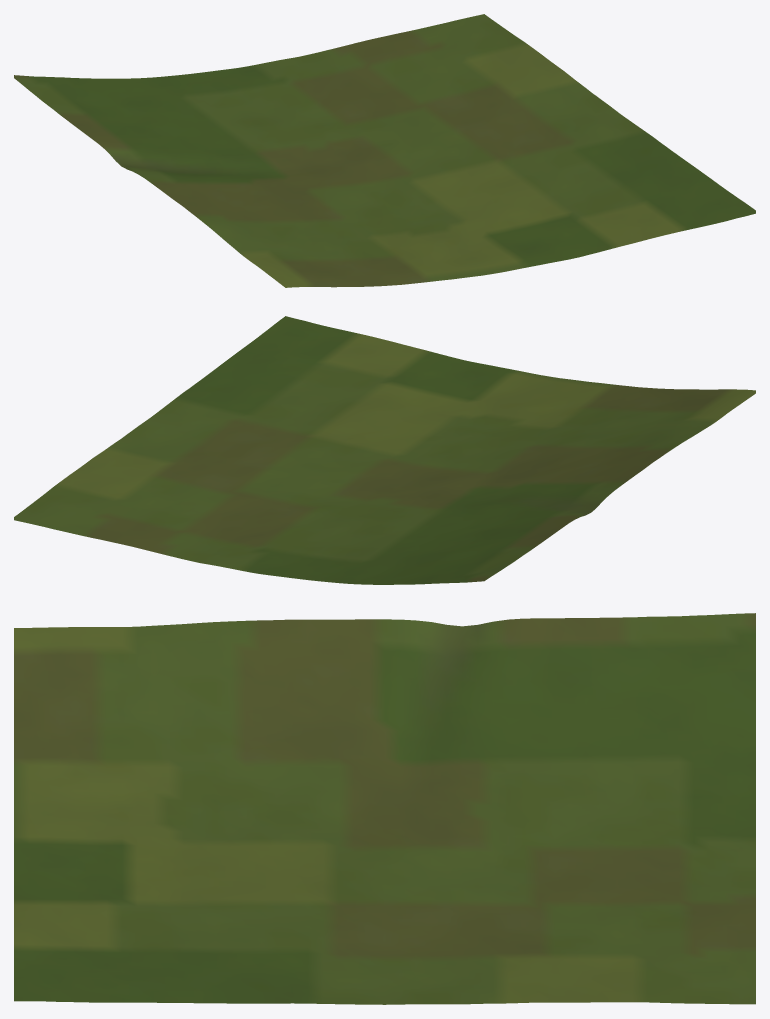
Rendered from land_m_07_07.glb.
3 renders of one model, top to bottom at view 1: azimuth 30°, elevation 25°; view 2: azimuth 150°, elevation 25°; view 3: azimuth 270°, elevation 25°, orthographic. The views are drawn at different scales.
Visible parts, largest first — view 1: land_m_07_07; view 2: land_m_07_07; view 3: land_m_07_07.
Boxes of the visible parts, x1,y1,x2,y2 form: land_m_07_07: (14,14,755,287); land_m_07_07: (14,316,755,584); land_m_07_07: (14,613,755,1004).
Size of the model in its own units: 960 by 112 by 960.
